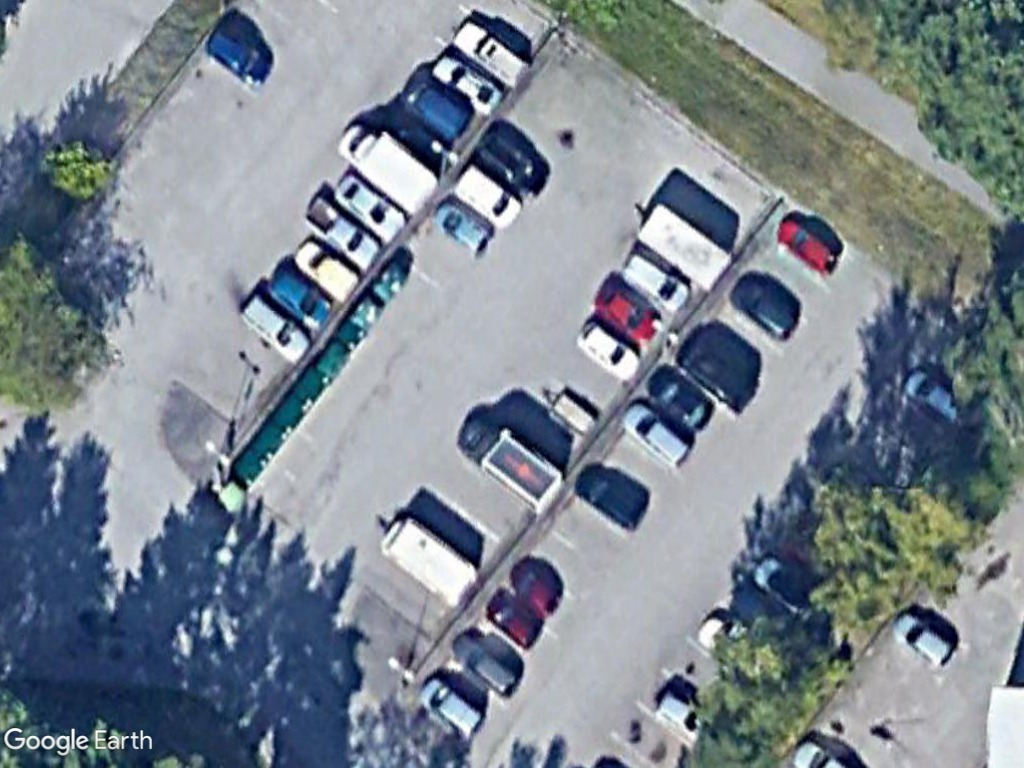car: (444, 624, 530, 704), (451, 14, 537, 93), (615, 395, 694, 471), (329, 167, 407, 243), (238, 289, 312, 369), (569, 464, 653, 534), (473, 127, 552, 200), (729, 272, 807, 343), (262, 262, 339, 332), (414, 672, 491, 742), (589, 279, 665, 349), (615, 246, 694, 312), (205, 24, 278, 93), (428, 50, 503, 117), (771, 212, 844, 280), (889, 606, 959, 676), (292, 234, 364, 302), (573, 320, 645, 386), (504, 554, 569, 624), (646, 365, 717, 429), (483, 584, 546, 653)
other: (301, 192, 388, 270)
truck: (454, 409, 566, 514)
van: (334, 120, 446, 213), (400, 74, 474, 146), (450, 161, 523, 230)
